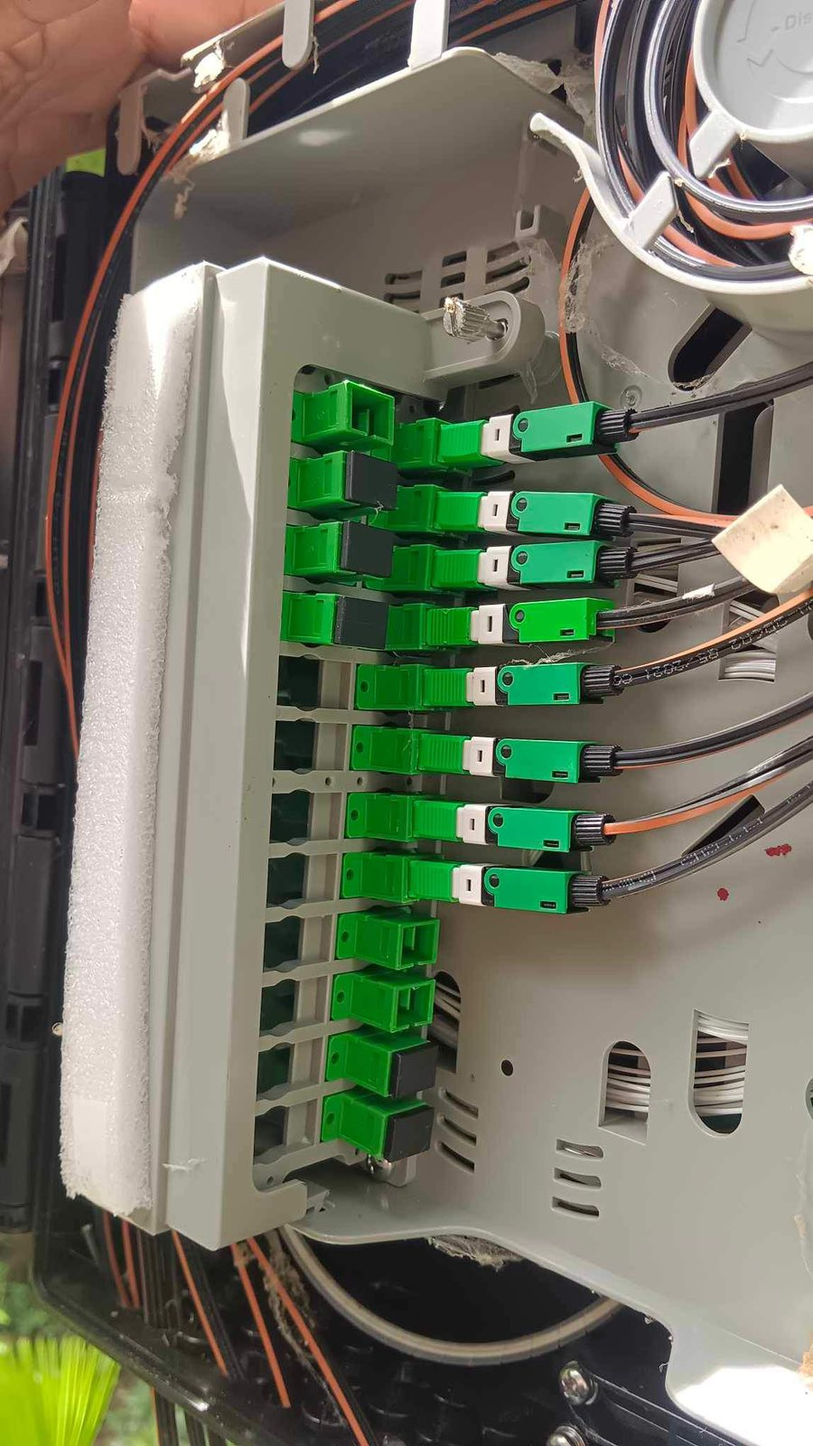no dust cap: (346, 385, 395, 445), (384, 1108, 431, 1164), (391, 1044, 436, 1097)
no port: (263, 916, 336, 976), (258, 1037, 324, 1103), (260, 976, 327, 1038), (254, 1097, 314, 1165), (264, 853, 337, 908), (278, 657, 352, 710), (270, 793, 343, 842), (274, 723, 348, 771), (392, 980, 433, 1032), (398, 920, 440, 968)
occupied: (437, 398, 636, 469), (410, 857, 608, 919), (413, 797, 614, 857), (421, 735, 626, 787), (437, 488, 636, 540), (422, 596, 616, 648), (421, 662, 622, 711), (430, 543, 630, 591), (342, 519, 397, 580), (332, 595, 391, 650), (345, 451, 397, 509)
